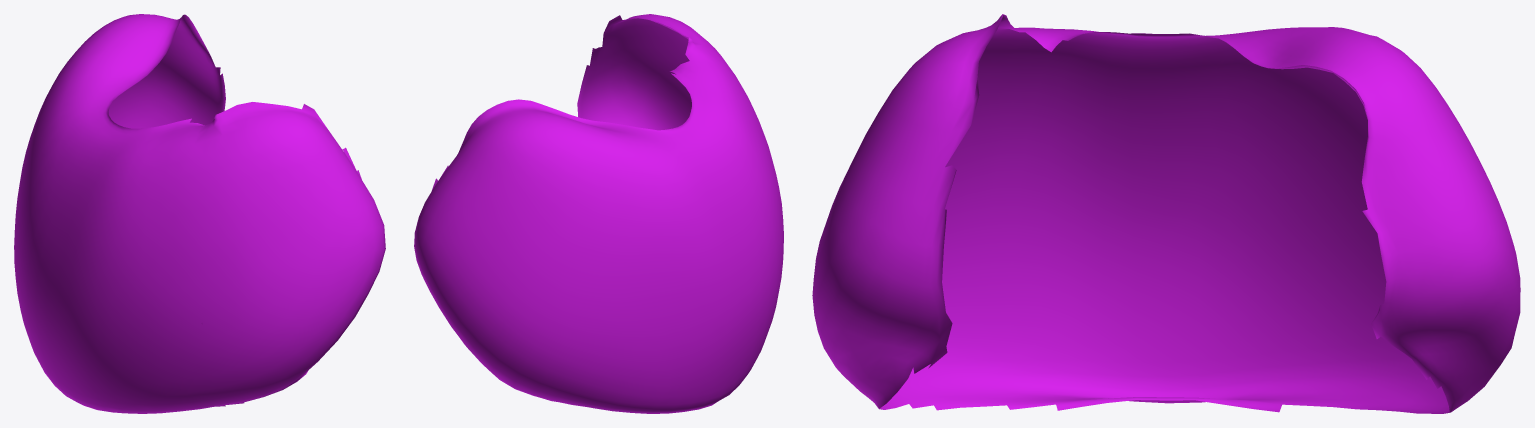
The model's file is baseventricula.obj.
3 views of the same model, side by side, from view 1: azimuth 30°, elevation 25°; view 2: azimuth 150°, elevation 25°; view 3: azimuth 270°, elevation 25° (orthographic). The views are drawn at different scales.
Parts seen in each view (by area): view 1: base.002; view 2: base.002; view 3: base.002.
Part boxes in pixels (<box>): base.002: <box>14,14,385,413</box>; base.002: <box>414,14,783,413</box>; base.002: <box>812,14,1520,413</box>.
Size of the model in its own units: 0.4866 by 0.5634 by 0.7846.
1 material, 1 textured.
